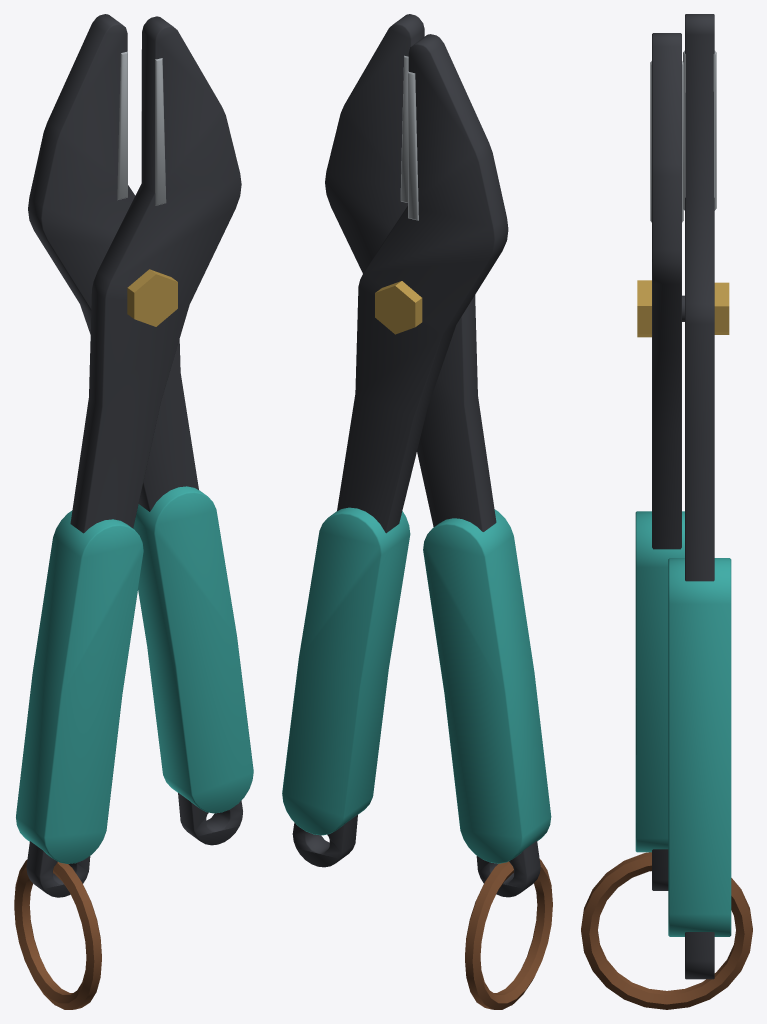
File: tool_wirecutters.fbx
3 renders of one model, left to right at view 1: azimuth 30°, elevation 25°; view 2: azimuth 150°, elevation 25°; view 3: azimuth 270°, elevation 25°, orthographic. The views are drawn at different scales.
Parts seen in each view (by area): view 1: Tool_WireCutters_JawA, Tool_WireCutters_JawB, Tool_WireCutters_Pivot; view 2: Tool_WireCutters_JawB, Tool_WireCutters_JawA, Tool_WireCutters_Pivot; view 3: Tool_WireCutters_JawB, Tool_WireCutters_JawA, Tool_WireCutters_Pivot.
Boxes of the visible parts, box(x1,y1,x2,y2) form: Tool_WireCutters_JawA: box(14, 16, 241, 1009); Tool_WireCutters_JawB: box(28, 14, 253, 845); Tool_WireCutters_Pivot: box(127, 269, 177, 326); Tool_WireCutters_JawB: box(282, 34, 508, 867); Tool_WireCutters_JawA: box(325, 14, 552, 1009); Tool_WireCutters_Pivot: box(375, 281, 422, 334); Tool_WireCutters_JawB: box(668, 14, 731, 979); Tool_WireCutters_JawA: box(581, 33, 752, 1009); Tool_WireCutters_Pivot: box(637, 280, 729, 337).
Bounding box in the file's own units: 9.35 × 37.96 × 5.75.
